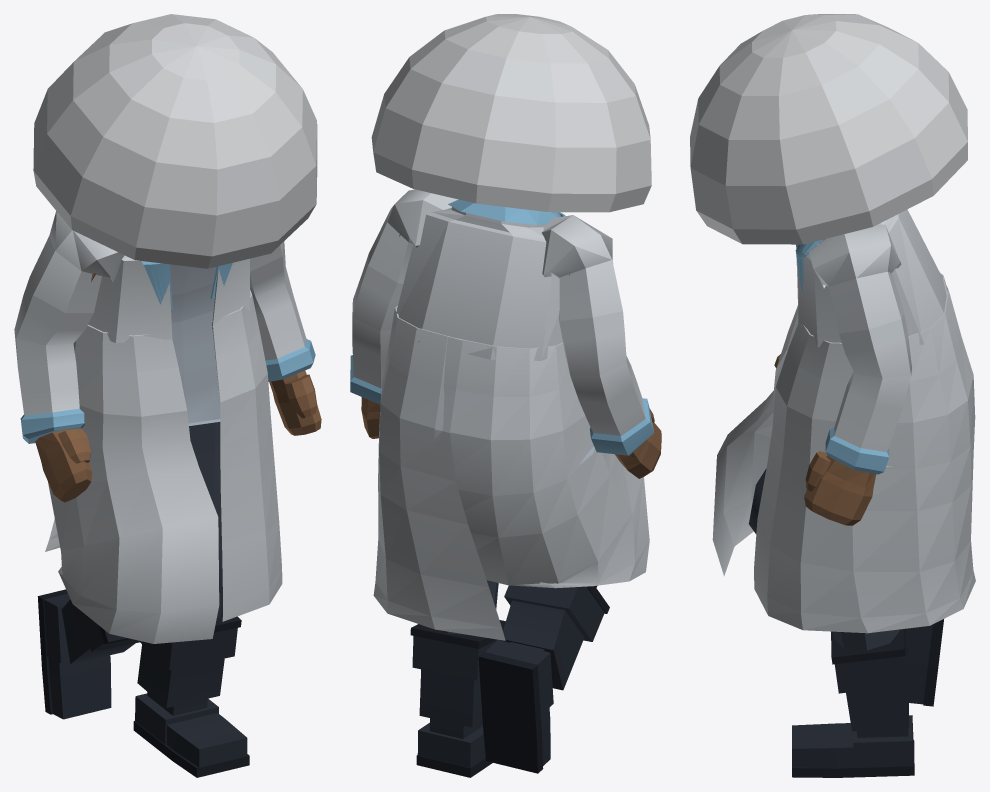
File: city-commuter-52a53f__walk2.glb
The picture shows the model from 3 angles, left to right: view 1: azimuth 30°, elevation 25°; view 2: azimuth 150°, elevation 25°; view 3: azimuth 270°, elevation 25°; orthographic projection.
Parts seen in each view (by area): view 1: city-commuter-52a53f__walk2; view 2: city-commuter-52a53f__walk2; view 3: city-commuter-52a53f__walk2.
Boxes of the visible parts, x1,y1,x2,y2 form: city-commuter-52a53f__walk2: (14,14,321,777); city-commuter-52a53f__walk2: (350,14,661,777); city-commuter-52a53f__walk2: (690,14,975,777).
Bounding box in the file's own units: 0.7904 × 1.85 × 0.6598.
